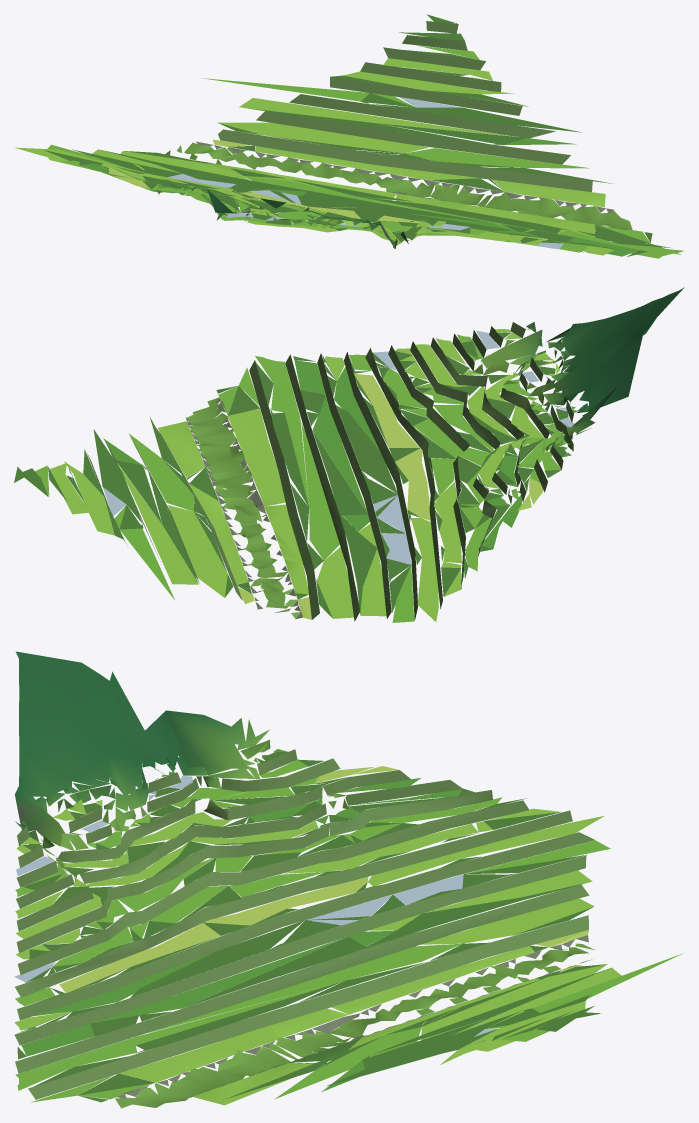
Rendered from payo_land_xm1_y4_lod2.glb.
3 views of the same model, one above another, from view 1: azimuth 30°, elevation 25°; view 2: azimuth 150°, elevation 25°; view 3: azimuth 270°, elevation 25° (orthographic). The views are drawn at different scales.
Parts seen in each view (by area): view 1: payo_land_xm1_y4; view 2: payo_land_xm1_y4; view 3: payo_land_xm1_y4.
Boxes of the visible parts, box(x1,y1,x2,y2) form: payo_land_xm1_y4: box(15, 14, 683, 258); payo_land_xm1_y4: box(14, 287, 684, 622); payo_land_xm1_y4: box(14, 651, 683, 1108).
Bounding box in the file's own units: 279 × 109 × 302.
